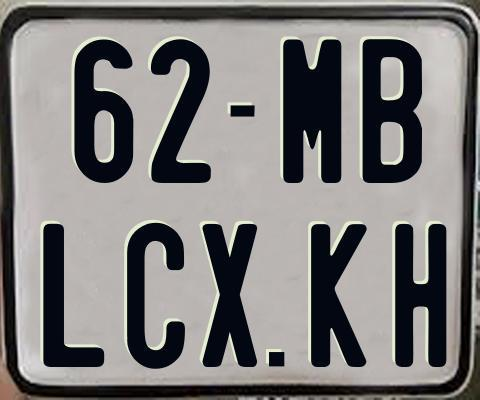2: (148, 38, 213, 183)
6: (71, 39, 137, 184)
B: (363, 39, 428, 184)
C: (124, 222, 186, 373)
H: (395, 221, 452, 367)
K: (309, 221, 371, 366)
L: (41, 222, 104, 365)
M: (282, 37, 342, 186)
X: (200, 221, 259, 366)
